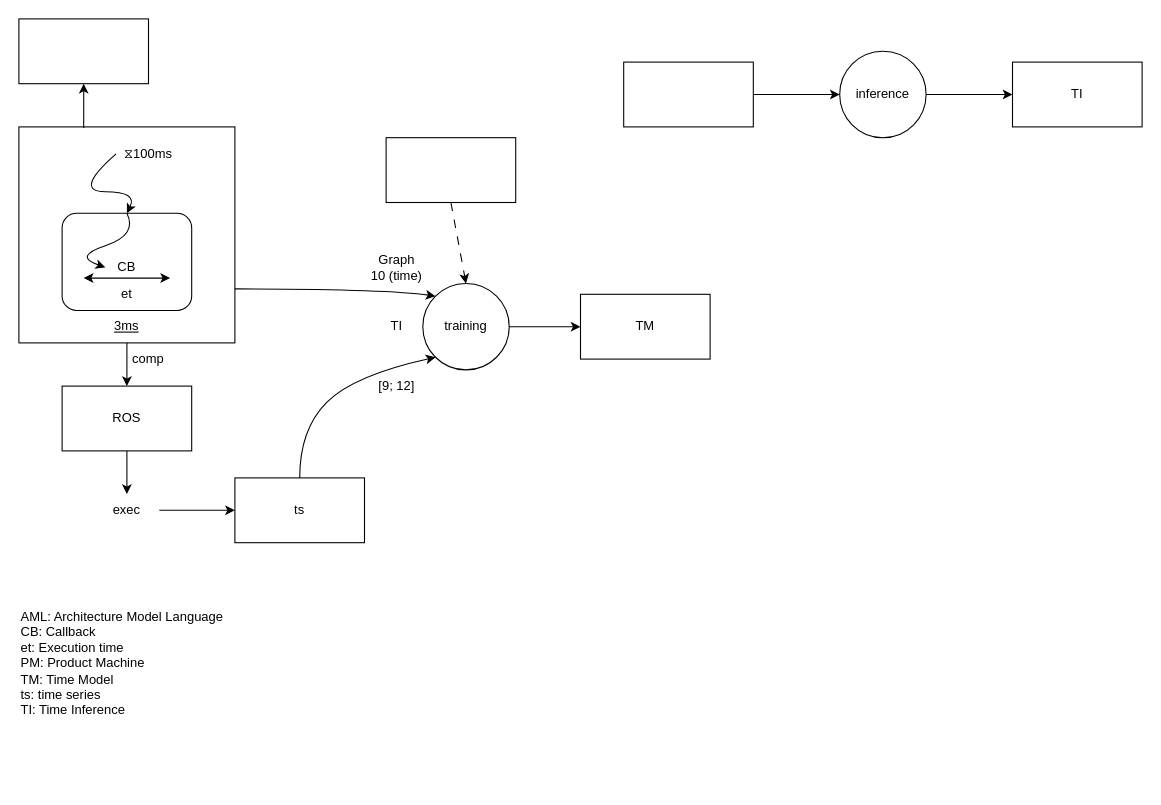
The diagram is 1161 pixels wide and 805 high, and some of its shapes have lost their labels. Here are the shapes that lost their labels. From the top down, the centre of each, then its label:
the point at 83,51: ROS AML
the point at 688,94: .rosapl
the point at 450,169: 1 PM
